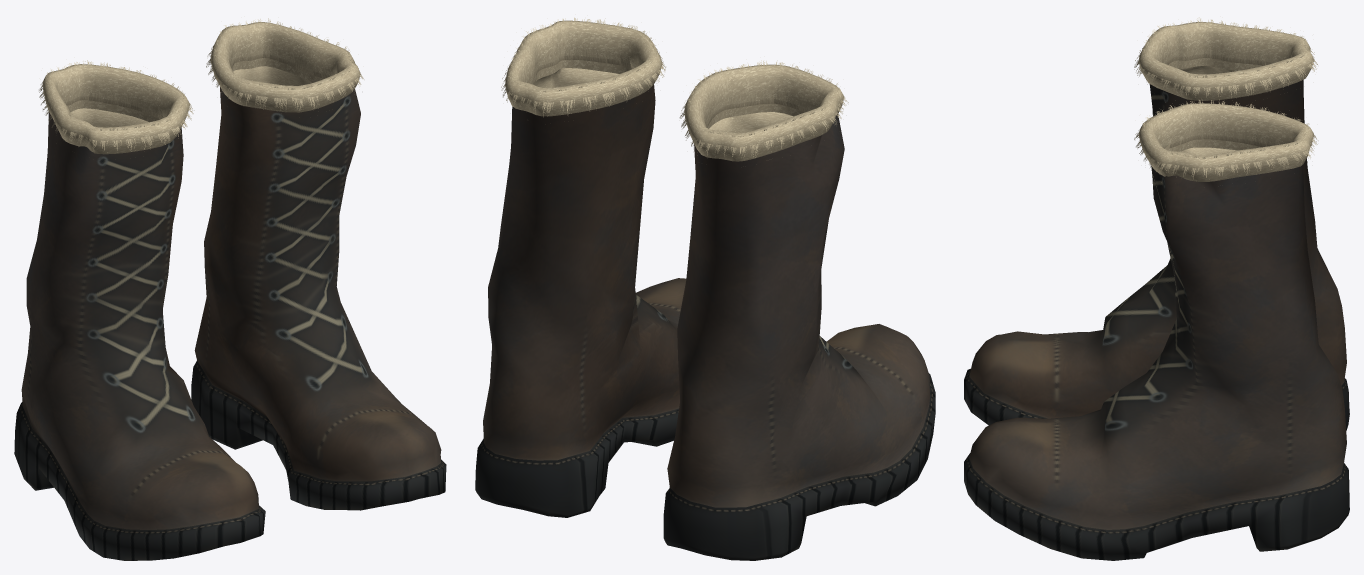
The model's file is boots.glb.
3 views of the same model, side by side, from view 1: azimuth 30°, elevation 25°; view 2: azimuth 150°, elevation 25°; view 3: azimuth 270°, elevation 25° (orthographic). The views are drawn at different scales.
Visible parts, largest first — view 1: Boot_New_R, Boot_New_L, Boot_Fur_L, Boot_Fur_R, Boot_Lining_R, Boot_Lining_L; view 2: Boot_New_R, Boot_New_L, Boot_Fur_R, Boot_Fur_L, Boot_Lining_R, Boot_Lining_L; view 3: Boot_New_L, Boot_New_R, Boot_Fur_L, Boot_Fur_R.
Boxes of the visible parts, x1,y1,x2,y2 form: Boot_New_R: (14,112,265,560); Boot_New_L: (191,87,446,510); Boot_Fur_L: (206,18,364,112); Boot_Fur_R: (39,60,194,154); Boot_Lining_R: (70,108,148,127); Boot_Lining_L: (233,66,312,85); Boot_New_R: (663,114,935,560); Boot_New_L: (475,84,686,517); Boot_Fur_R: (679,60,848,161); Boot_Fur_L: (501,17,665,117); Boot_Lining_R: (709,112,793,133); Boot_Lining_L: (534,68,619,87); Boot_New_L: (964,165,1349,560); Boot_New_R: (964,80,1349,430); Boot_Fur_L: (1134,99,1318,182); Boot_Fur_R: (1134,17,1317,100).
Size of the model in its own units: 0.3356 by 0.3861 by 0.3394.
Materials: 3 (3 with a texture image).
